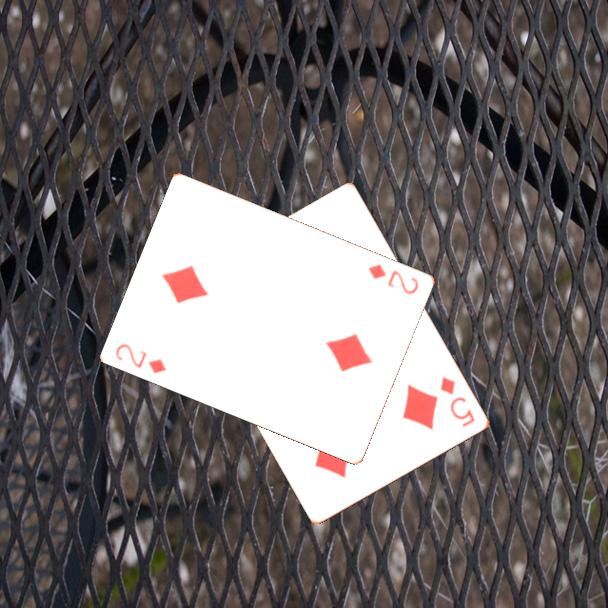d02: (364, 260, 422, 297), (112, 340, 170, 377)
d05: (437, 373, 478, 430)
